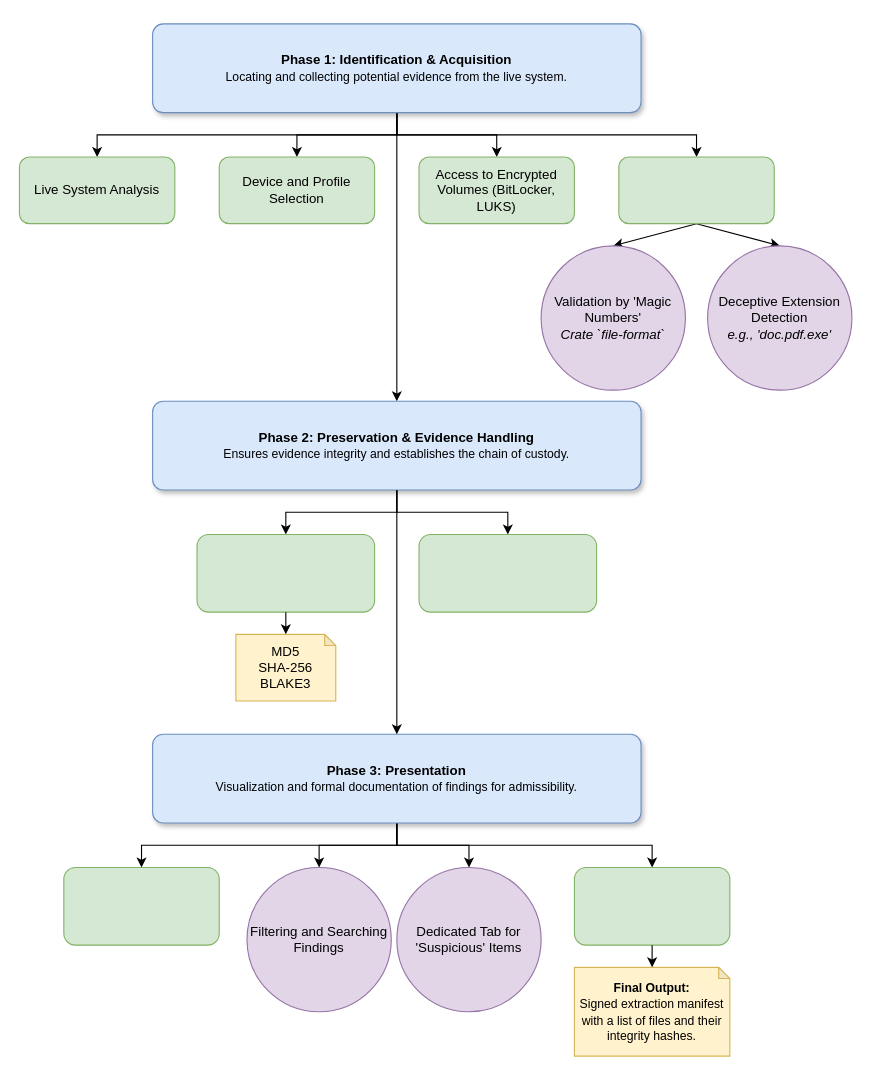
This 871x1076 diagram has some shape labels left out. Here are the shapes that lost their labels. From the top down, the centre of each, then its label:
At point (696, 190): "Heuristic Anomaly Detection".
At point (285, 572): "Cryptographic Hash Calculation per File".
At point (507, 572): "Establishment of Auditable Chain of Custody".
At point (141, 905): "Real-Time Visualization GUI (Slint)".
At point (651, 905): "Forensic PDF Report Generation Crate `genpdfi`".
